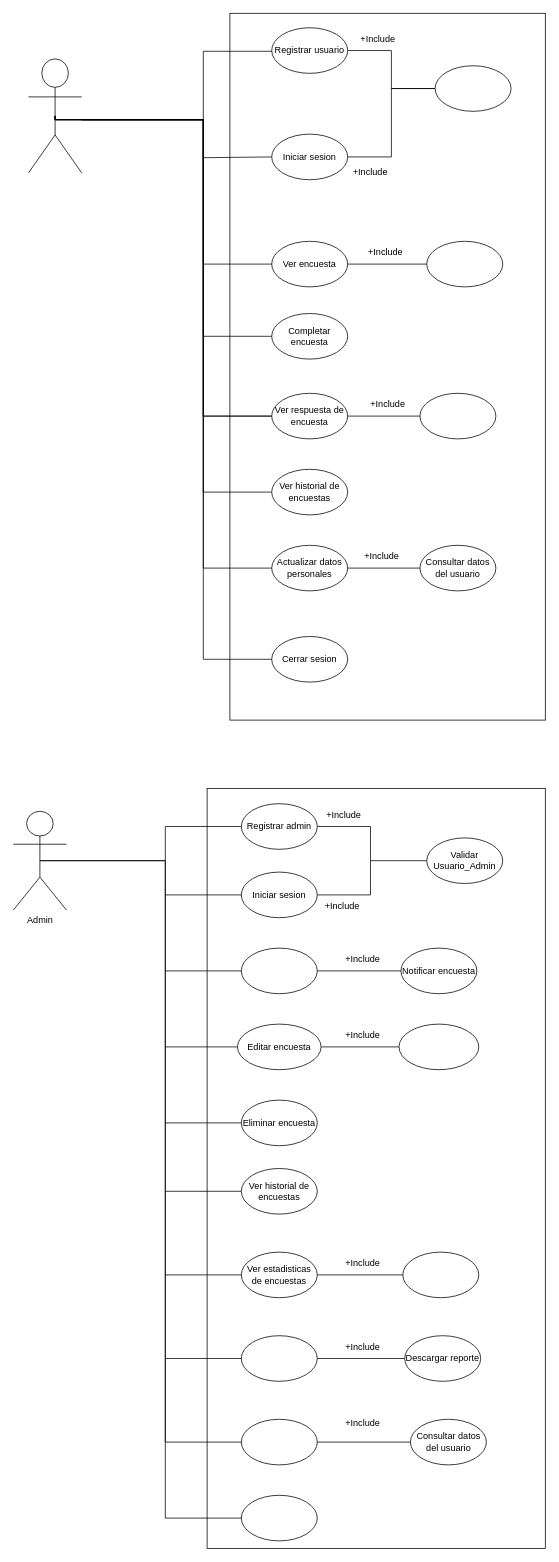
The diagram is 559 pixels wide and 1562 high, and some of its shapes have lost their labels. Here are the shapes that lost their labels. From the top down, the centre of each, then its label:
At [472,88]: "Validar usuario".
At [55,115]: "Usuario".
At [464,264]: "Encuesta activa".
At [457,416]: "Encuesta respondida".
At [279,970]: "Crear encuesta".
At [438,1046]: "Actualizar encuesta".
At [440,1274]: "Generar Grafica".
At [279,1358]: "Generar reporte".
At [279,1442]: "Actualizar datos".
At [279,1518]: "Cerrar sesión".
